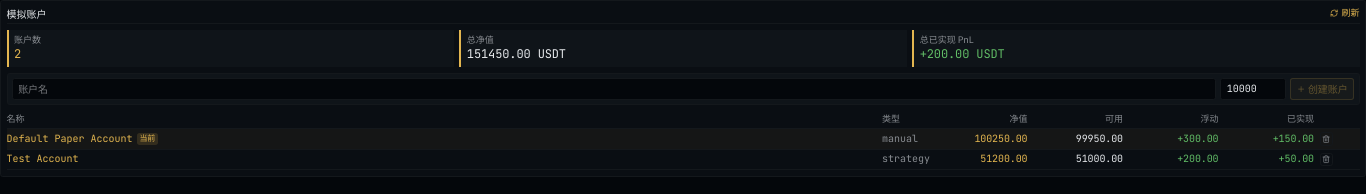
Test: paper 子页组件 › PaperAccountsPage: 打开有数 — 渲染账户列表 + 净值统计
Check: the text "Default Paper Account" is shown, box 6,132 -> 132,146
Check: the text "Test Account" is shown, box 6,152 -> 78,166
Type "新账户" into the field labelled "账户名" at (614, 89), box 12,78 -> 1216,100
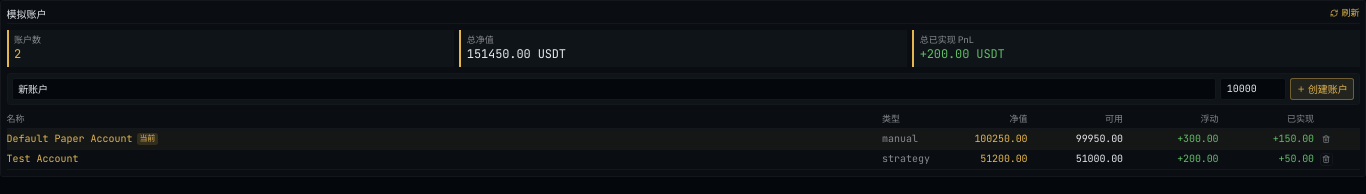
Check: the button "创建账户" is enabled, box 1290,78 -> 1354,100
